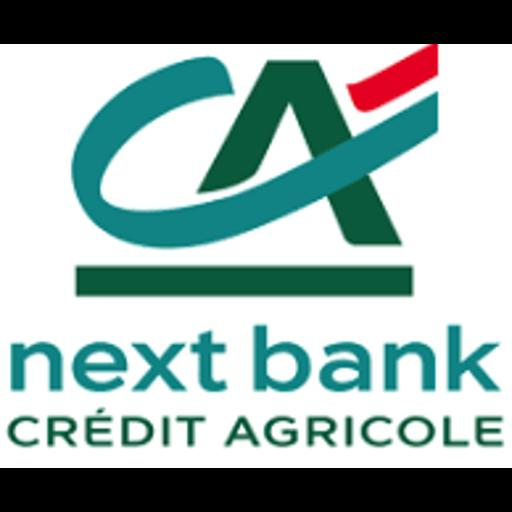Credit Agricole S-A: (0, 44, 512, 468)
